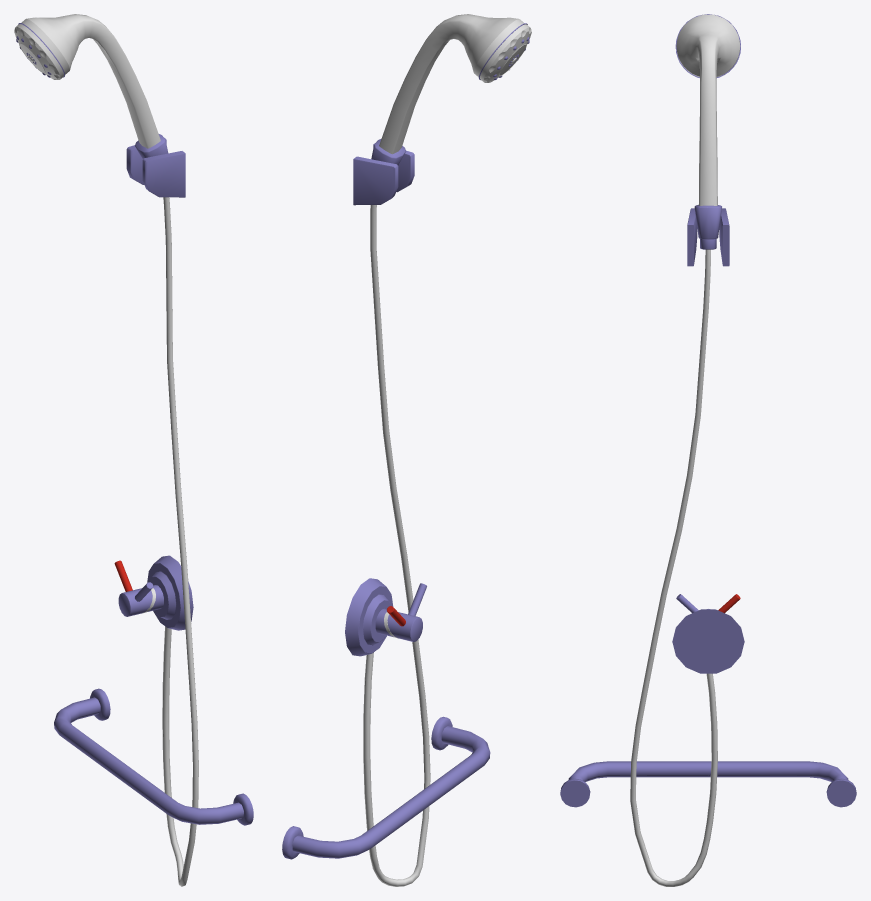
The model's file is WashingSet01.FBX.
The picture shows the model from 3 angles, left to right: view 1: azimuth 30°, elevation 25°; view 2: azimuth 150°, elevation 25°; view 3: azimuth 270°, elevation 25°; orthographic projection. The views are drawn at different scales.
Visible parts, largest first — view 1: WashingSet01; view 2: WashingSet01; view 3: WashingSet01.
Boxes of the visible parts, <box> form: WashingSet01: <box>14,14,253,886</box>; WashingSet01: <box>282,14,531,886</box>; WashingSet01: <box>560,14,856,886</box>.
Size of the model in its own units: 518 by 2843 by 936.
